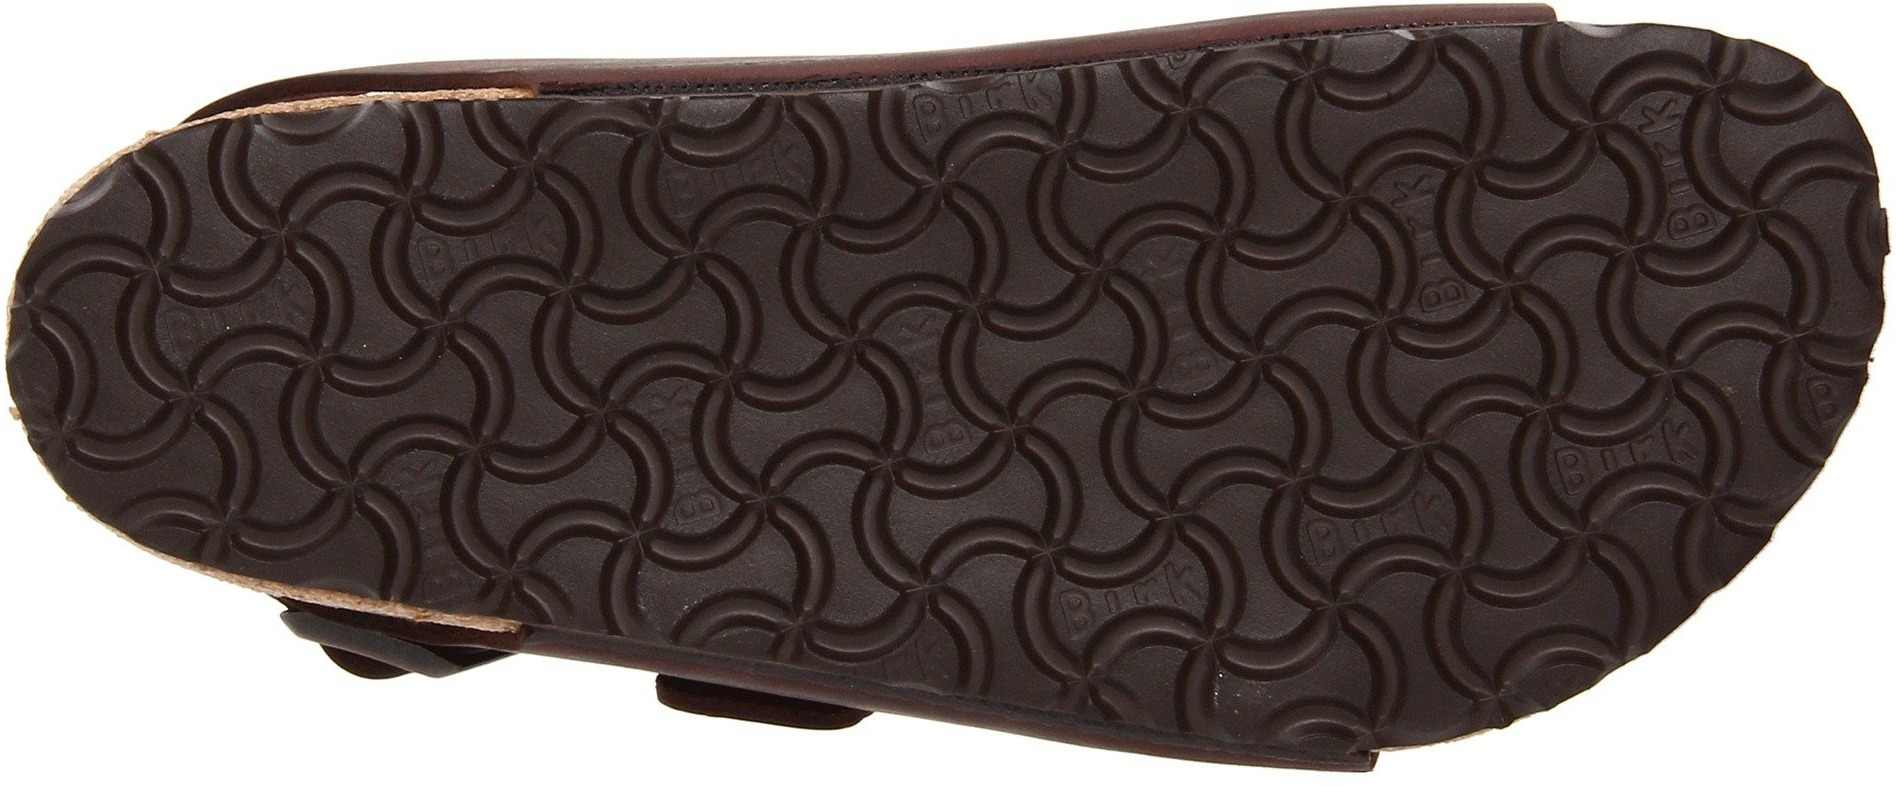bowtie: (1437, 40, 1838, 426), (719, 99, 1106, 470), (1118, 73, 1434, 440), (389, 115, 706, 427), (82, 192, 386, 514), (1118, 447, 1429, 739), (846, 476, 1104, 710), (1447, 439, 1674, 643), (482, 433, 690, 612)
text: (1437, 40, 1838, 426), (719, 99, 1106, 470), (1118, 73, 1434, 440), (389, 115, 706, 427), (82, 192, 386, 514), (1118, 447, 1429, 739), (846, 476, 1104, 710), (1447, 439, 1674, 643)
